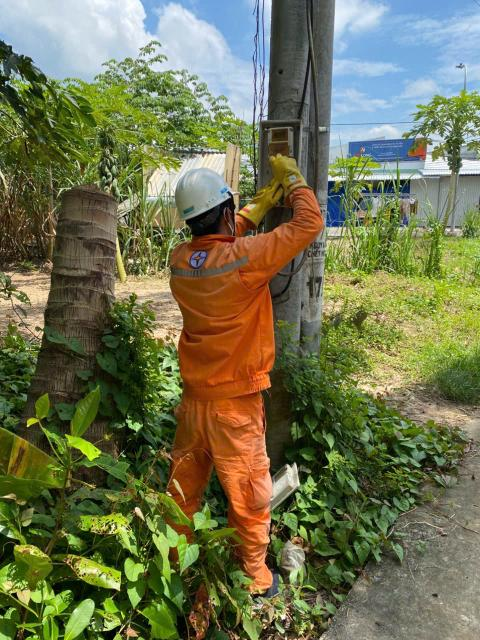gloves: (235, 170, 289, 234), (267, 148, 318, 202)
helmet: (165, 161, 243, 232)
